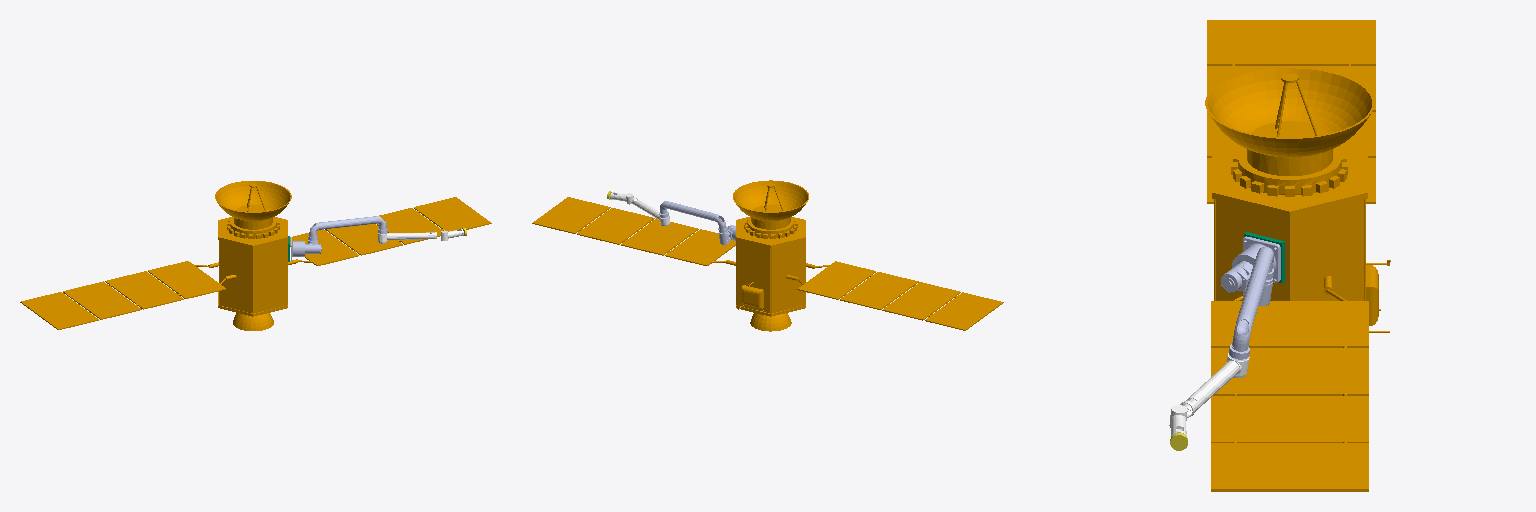
The robot description file, URDF, robot "satellite_model1__starlink_sldasm9":
<?xml version='1.0' encoding='utf-8'?>
<robot name="satellite_model1__starlink_sldasm9">
  <link name="base_link">
    <visual>
      <geometry>
        <mesh filename="../satellites/satellite_model1/satellite.stl" />
      </geometry>
    </visual>
    <collision>
      <geometry>
        <mesh filename="../satellites/satellite_model1/satellite.stl" />
      </geometry>
    </collision>
  </link>
  <link name="satellite_model1_mount" />
  <joint name="satellite_mount_fixed" type="fixed">
    <parent link="base_link" />
    <child link="satellite_model1_mount" />
    <origin xyz="0.5324822822133548 -0.1754639344281227 0.8381867257517503" rpy="-1.161091223167432e-10 -1.5707959412852832 2.617993232740724" />
  </joint>
  <link name="mount_support">
    <visual>
      <geometry>
        <mesh filename="../satellites/satellite_model1/mount_support.stl" />
      </geometry>
    </visual>
    <collision>
      <geometry>
        <mesh filename="../satellites/satellite_model1/mount_support.stl" />
      </geometry>
    </collision>
  </link>
  <joint name="support_fixed" type="fixed">
    <parent link="satellite_model1_mount" />
    <child link="mount_support" />
    <origin xyz="0 0 0" rpy="0 0 0" />
  </joint>
  <joint name="arm_adapter_fixed" type="fixed">
    <parent link="satellite_model1_mount" />
    <child link="starlink_space_manipulator_base_link" />
    <origin xyz="0.009087204933166504 0.008519247174263 0.16000000119209315" rpy="-1.5707963267948966 0 0.0" />
  </joint>
  <link name="starlink_space_manipulator_base_link">
    <inertial>
      <origin xyz="-0.00908719924946466 0.0225428225681148 -0.00851924929637313" rpy="0 0 0" />
      <mass value="8.66024015898073" />
      <inertia ixx="0.0960303512697639" ixy="1.65511904636803E-18" ixz="6.22039820639877E-19" iyy="0.103454922260914" iyz="-9.68471289978311E-19" izz="0.0960303512697639" />
    </inertial>
    <visual>
      <origin xyz="0 0 0" rpy="0 0 0" />
      <geometry>
        <mesh filename="../arms/starlink_sldasm9/meshes/starlink_space_manipulator_base_link.STL" />
      </geometry>
      <material name="">
        <color rgba="0.792156862745098 0.819607843137255 0.933333333333333 1" />
      </material>
    </visual>
    <collision>
      <origin xyz="0 0 0" rpy="0 0 0" />
      <geometry>
        <mesh filename="../arms/starlink_sldasm9/meshes/starlink_space_manipulator_base_link.STL" />
      </geometry>
    </collision>
  </link>
  <link name="starlink_space_manipulator_Shoulder_link_1">
    <inertial>
      <origin xyz="-0.000399471745595769 -0.100006574194712 -0.17423940484461" rpy="0 0 0" />
      <mass value="5.16309216784981" />
      <inertia ixx="0.0524543852135592" ixy="0.00348154867667969" ixz="6.96526910910627E-05" iyy="0.0306595326318824" iyz="-0.00056674368052247" izz="0.0439979075615329" />
    </inertial>
    <visual>
      <origin xyz="0 0 0" rpy="0 0 0" />
      <geometry>
        <mesh filename="../arms/starlink_sldasm9/meshes/starlink_space_manipulator_Shoulder_link_1.STL" />
      </geometry>
      <material name="">
        <color rgba="0.792156862745098 0.819607843137255 0.933333333333333 1" />
      </material>
    </visual>
    <collision>
      <origin xyz="0 0 0" rpy="0 0 0" />
      <geometry>
        <mesh filename="../arms/starlink_sldasm9/meshes/starlink_space_manipulator_Shoulder_link_1.STL" />
      </geometry>
    </collision>
  </link>
  <joint name="starlink_space_manipulator_Shoulder_link_1_yaw" type="revolute">
    <origin xyz="-0.0090872 -0.065 -0.0085192" rpy="1.5708 -0.15574 3.1416" />
    <parent link="starlink_space_manipulator_base_link" />
    <child link="starlink_space_manipulator_Shoulder_link_1" />
    <axis xyz="0 0 -1" />
    <limit lower="-3.14" upper="3.14" effort="0" velocity="0" />
  </joint>
  <link name="starlink_space_manipulator_Upper_arm_Link_1">
    <inertial>
      <origin xyz="0.402106341472203 -0.696465272634528 -0.170177523085579" rpy="0 0 0" />
      <mass value="5.05309869040685" />
      <inertia ixx="0.388719013133801" ixy="0.210155896498943" ixz="9.30829370680679E-08" iyy="0.146049057575642" iyz="1.71830458004218E-07" izz="0.500677708275447" />
    </inertial>
    <visual>
      <origin xyz="0 0 0" rpy="0 0 0" />
      <geometry>
        <mesh filename="../arms/starlink_sldasm9/meshes/starlink_space_manipulator_Upper_arm_Link_1.STL" />
      </geometry>
      <material name="">
        <color rgba="0.792156862745098 0.819607843137255 0.933333333333333 1" />
      </material>
    </visual>
    <collision>
      <origin xyz="0 0 0" rpy="0 0 0" />
      <geometry>
        <mesh filename="../arms/starlink_sldasm9/meshes/starlink_space_manipulator_Upper_arm_Link_1.STL" />
      </geometry>
    </collision>
  </link>
  <joint name="starlink_space_manipulator_Upper_arm_Link_1_roll" type="revolute">
    <origin xyz="0 -0.2 -0.18" rpy="1.5708 0.90646 1.5708" />
    <parent link="starlink_space_manipulator_Shoulder_link_1" />
    <child link="starlink_space_manipulator_Upper_arm_Link_1" />
    <axis xyz="0 0 -1" />
    <limit lower="-2" upper="1.5" effort="0" velocity="0" />
  </joint>
  <link name="starlink_space_manipulator_Mid_arm_Link_1">
    <inertial>
      <origin xyz="-0.000406052776441013 0.317722269561105 0.0155331755135703" rpy="0 0 0" />
      <mass value="1.57635531881168" />
      <inertia ixx="0.133610363618846" ixy="5.33750993405138E-05" ixz="-3.60473795202962E-09" iyy="0.00502119434334708" iyz="-2.514275749911E-05" izz="0.134586018527477" />
    </inertial>
    <visual>
      <origin xyz="0 0 0" rpy="0 0 0" />
      <geometry>
        <mesh filename="../arms/starlink_sldasm9/meshes/starlink_space_manipulator_Mid_arm_Link_1.STL" />
      </geometry>
      <material name="">
        <color rgba="1 1 1 1" />
      </material>
    </visual>
    <collision>
      <origin xyz="0 0 0" rpy="0 0 0" />
      <geometry>
        <mesh filename="../arms/starlink_sldasm9/meshes/starlink_space_manipulator_Mid_arm_Link_1.STL" />
      </geometry>
    </collision>
  </link>
  <joint name="starlink_space_manipulator_Mid_arm_Link_1_roll" type="revolute">
    <origin xyz="0.599999999999673 -1.03923048454122 0" rpy="-3.14159265358979 0 0.828250280535091" />
    <parent link="starlink_space_manipulator_Upper_arm_Link_1" />
    <child link="starlink_space_manipulator_Mid_arm_Link_1" />
    <axis xyz="0 0 -1" />
    <limit lower="-3.14" upper="3.14" effort="0" velocity="0" />
  </joint>
  <link name="starlink_space_manipulator_Upper_wrist_Link_1">
    <inertial>
      <origin xyz="-0.000400003664721815 -0.201565878030355 -0.00216705855311664" rpy="0 0 0" />
      <mass value="0.994770641034713" />
      <inertia ixx="0.00165409639029414" ixy="-7.59103925411082E-06" ixz="-3.17403155320863E-06" iyy="0.00201437937768072" iyz="2.63246464091218E-06" izz="0.00159638838344539" />
    </inertial>
    <visual>
      <origin xyz="0 0 0" rpy="0 0 0" />
      <geometry>
        <mesh filename="../arms/starlink_sldasm9/meshes/starlink_space_manipulator_Upper_wrist_Link_1.STL" />
      </geometry>
      <material name="">
        <color rgba="0.792156862745098 0.819607843137255 0.933333333333333 1" />
      </material>
    </visual>
    <collision>
      <origin xyz="0 0 0" rpy="0 0 0" />
      <geometry>
        <mesh filename="../arms/starlink_sldasm9/meshes/starlink_space_manipulator_Upper_wrist_Link_1.STL" />
      </geometry>
    </collision>
  </link>
  <joint name="starlink_space_manipulator_Upper_wrist_Link_1_yaw" type="revolute">
    <origin xyz="-0.00050155183276912 0.686793643713439 0.0155010481432086" rpy="0 -0.0763876794035917 3.14159265358979" />
    <parent link="starlink_space_manipulator_Mid_arm_Link_1" />
    <child link="starlink_space_manipulator_Upper_wrist_Link_1" />
    <axis xyz="0 -1 0" />
    <limit lower="-3.14" upper="3.14" effort="0" velocity="0" />
  </joint>
  <link name="starlink_space_manipulator_Upper_wrist_Link_2">
    <inertial>
      <origin xyz="8.45304168883843E-08 0.0848318719623631 -0.00515657391755576" rpy="0 0 0" />
      <mass value="1.03716823037577" />
      <inertia ixx="0.0100970561498589" ixy="1.32295633551837E-09" ixz="-9.43675929999229E-09" iyy="0.00222325407426665" iyz="-2.08772874866187E-06" izz="0.0105840577017538" />
    </inertial>
    <visual>
      <origin xyz="0 0 0" rpy="0 0 0" />
      <geometry>
        <mesh filename="../arms/starlink_sldasm9/meshes/starlink_space_manipulator_Upper_wrist_Link_2.STL" />
      </geometry>
      <material name="">
        <color rgba="1 1 1 1" />
      </material>
    </visual>
    <collision>
      <origin xyz="0 0 0" rpy="0 0 0" />
      <geometry>
        <mesh filename="../arms/starlink_sldasm9/meshes/starlink_space_manipulator_Upper_wrist_Link_2.STL" />
      </geometry>
    </collision>
  </link>
  <joint name="starlink_space_manipulator_Upper_wrist_Link_2_roll" type="revolute">
    <origin xyz="0 -0.30020635628656 0" rpy="-0.0158640776811277 -0.0317448426184613 -2.67805461574742" />
    <parent link="starlink_space_manipulator_Upper_wrist_Link_1" />
    <child link="starlink_space_manipulator_Upper_wrist_Link_2" />
    <axis xyz="0 0 1" />
    <limit lower="-2.5" upper="1.8" effort="0" velocity="0" />
  </joint>
  <link name="starlink__space_manipulator_2F-Body_Link">
    </link>
  <joint name="starlink__space_manipulator_2F-Body_Link_yaw" type="revolute">
    <origin xyz="0 0.34845 -0.0053813" rpy="-3.1416 0.93592 0" />
    <parent link="starlink_space_manipulator_Upper_wrist_Link_2" />
    <child link="starlink__space_manipulator_2F-Body_Link" />
    <axis xyz="0 -1 0" />
    <limit lower="-3.14" upper="3.14" effort="0" velocity="0" />
  </joint>
  <link name="angular_hand">
    <visual>
      <geometry>
        <mesh filename="../arms/starlink_sldasm9/meshes/hand_2finger.STL" scale="2 2 2" />
      </geometry>
    </visual>
    <collision>
      <geometry>
        <mesh filename="../arms/starlink_sldasm9/meshes/hand_2finger.STL" scale="2 2 2" />
      </geometry>
    </collision>
  </link>
  <joint name="angular_hand_fixed" type="fixed">
    <parent link="starlink__space_manipulator_2F-Body_Link" />
    <child link="angular_hand" />
    <origin xyz="0 -0.036 0" rpy="-1.5707963267948966 0 0" />
  </joint>
  <link name="angular_adapter">
    <visual>
      <geometry>
        <mesh filename="../arms/starlink_sldasm9/meshes/angular_adapter.stl" />
      </geometry>
    </visual>
    <collision>
      <geometry>
        <mesh filename="../arms/starlink_sldasm9/meshes/angular_adapter.stl" />
      </geometry>
    </collision>
  </link>
  <joint name="angular_adapter_fixed" type="fixed">
    <parent link="starlink__space_manipulator_2F-Body_Link" />
    <child link="angular_adapter" />
    <origin xyz="0 -0.0005 0" rpy="1.5707963267948966 0 0" />
  </joint>
  <link name="angular_finger_1">
    <visual>
      <geometry>
        <mesh filename="../arms/starlink_sldasm9/meshes/finger_proximal.STL" scale="2 2 2" />
      </geometry>
    </visual>
    <collision>
      <geometry>
        <mesh filename="../arms/starlink_sldasm9/meshes/finger_proximal.STL" scale="2 2 2" />
      </geometry>
    </collision>
  </link>
  <link name="angular_tip_1">
    <visual>
      <geometry>
        <mesh filename="../arms/starlink_sldasm9/meshes/finger_distal.STL" scale="2 2 2" />
      </geometry>
    </visual>
    <collision>
      <geometry>
        <mesh filename="../arms/starlink_sldasm9/meshes/finger_distal.STL" scale="2 2 2" />
      </geometry>
    </collision>
  </link>
  <joint name="angular_joint_1" type="revolute">
    <parent link="angular_hand" />
    <child link="angular_finger_1" />
    <axis xyz="0 0 1" />
    <origin xyz="-0.005 0.0619 -0.22964" rpy="-1.570796327 .649262481663582 1.5707963267948966" />
    <limit lower="0" upper="1.51" effort="2" velocity="1" />
  </joint>
  <joint name="angular_joint_tip_1" type="revolute">
    <parent link="angular_finger_1" />
    <child link="angular_tip_1" />
    <axis xyz="0 0 1" />
    <origin xyz="0.088 -0.006 0.0" rpy="0 0 0" />
    <limit lower="0" upper="2" effort="2" velocity="1" />
  </joint>
  <link name="angular_finger_2">
    <visual>
      <geometry>
        <mesh filename="../arms/starlink_sldasm9/meshes/finger_proximal.STL" scale="2 2 2" />
      </geometry>
    </visual>
    <collision>
      <geometry>
        <mesh filename="../arms/starlink_sldasm9/meshes/finger_proximal.STL" scale="2 2 2" />
      </geometry>
    </collision>
  </link>
  <link name="angular_tip_2">
    <visual>
      <geometry>
        <mesh filename="../arms/starlink_sldasm9/meshes/finger_distal.STL" scale="2 2 2" />
      </geometry>
    </visual>
    <collision>
      <geometry>
        <mesh filename="../arms/starlink_sldasm9/meshes/finger_distal.STL" scale="2 2 2" />
      </geometry>
    </collision>
  </link>
  <joint name="angular_joint_2" type="revolute">
    <parent link="angular_hand" />
    <child link="angular_finger_2" />
    <axis xyz="0 0 1" />
    <origin xyz="-0.005 -0.0619 -0.22964" rpy="-1.570796327 .649262481663582 -1.5707963267948966" />
    <limit lower="0" upper="1.51" effort="2" velocity="1" />
  </joint>
  <joint name="angular_joint_tip_2" type="revolute">
    <parent link="angular_finger_2" />
    <child link="angular_tip_2" />
    <axis xyz="0 0 1" />
    <origin xyz="0.088 -0.006 0.0" rpy="0 0 0" />
    <limit lower="0" upper="2" effort="2" velocity="1" />
  </joint>
  <link name="angular_tcp" />
  <joint name="angular_tcp_fixed" type="fixed">
    <parent link="angular_hand" />
    <child link="angular_tcp" />
    <origin xyz="-0.005 0 -0.34" rpy="3.141592653589793 0 0" />
  </joint>
</robot>

--- What the picture shows (computed from the rendered views, not written in the file) ---
3 views of the same robot in one strip: view 1: azimuth 30°, elevation 25°; view 2: azimuth 150°, elevation 25°; view 3: azimuth 270°, elevation 25° (orthographic).
Robot: satellite_model1__starlink_sldasm9 — 17 links, 16 joints (10 revolute, 6 fixed); root link base_link; default pose: every joint at zero.
Links seen in each view (by area): view 1: base_link, starlink_space_manipulator_Upper_arm_Link_1; view 2: base_link, starlink_space_manipulator_Upper_arm_Link_1; view 3: base_link, starlink_space_manipulator_Upper_arm_Link_1, starlink_space_manipulator_Mid_arm_Link_1, starlink_space_manipulator_Shoulder_link_1, starlink_space_manipulator_base_link.
Boxes of the visible links, box(x1,y1,x2,y2) form: base_link: box(20, 181, 491, 330); starlink_space_manipulator_Upper_arm_Link_1: box(309, 216, 387, 243); base_link: box(532, 180, 1003, 331); starlink_space_manipulator_Upper_arm_Link_1: box(659, 201, 726, 229); base_link: box(1205, 20, 1390, 491); starlink_space_manipulator_Upper_arm_Link_1: box(1229, 247, 1273, 377); starlink_space_manipulator_Mid_arm_Link_1: box(1180, 353, 1249, 417); starlink_space_manipulator_Shoulder_link_1: box(1221, 261, 1273, 305); starlink_space_manipulator_base_link: box(1232, 236, 1280, 282).
Bounding box of the posed robot: 8 × 1.6 × 2.42 m (x, y, z).
8 mesh visuals loaded from 12 distinct referenced files (8 binary STL); not drawn: 6 (reference not matched to a file when rendering).
